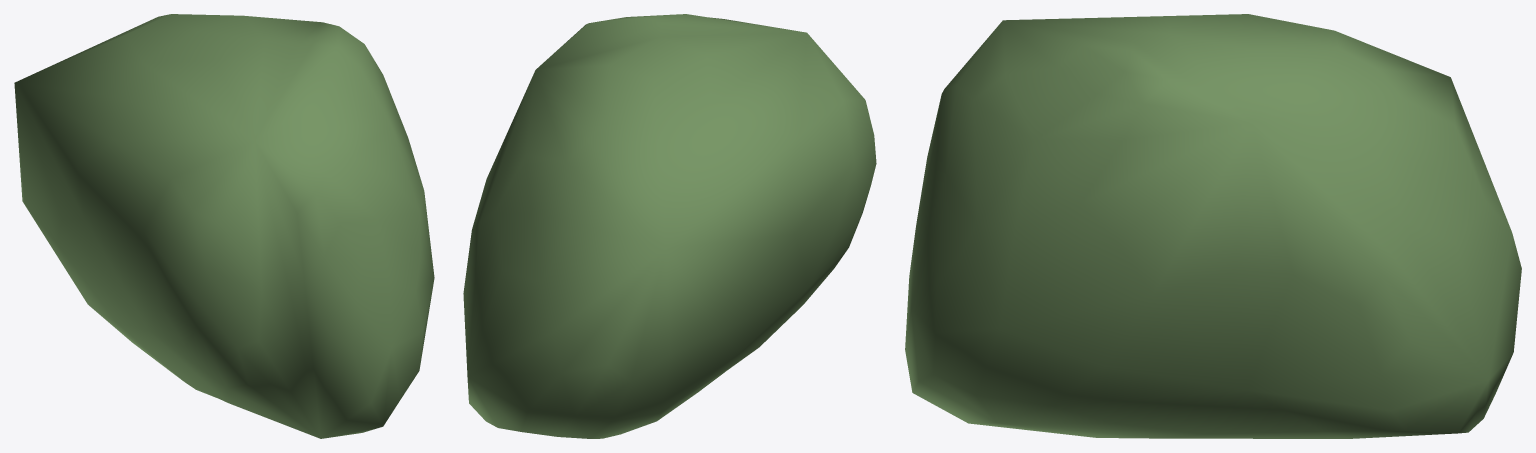
3 views of the same model, side by side, from view 1: azimuth 30°, elevation 25°; view 2: azimuth 150°, elevation 25°; view 3: azimuth 270°, elevation 25° (orthographic). The views are drawn at different scales.
Parts seen in each view (by area): view 1: FD_CF; view 2: FD_CF; view 3: FD_CF.
Boxes of the visible parts, box(x1,y1,x2,y2) form: FD_CF: box(14, 14, 434, 438); FD_CF: box(463, 14, 876, 438); FD_CF: box(905, 14, 1521, 438).
Bounding box in the file's own units: 9.32 × 11.04 × 15.4.
